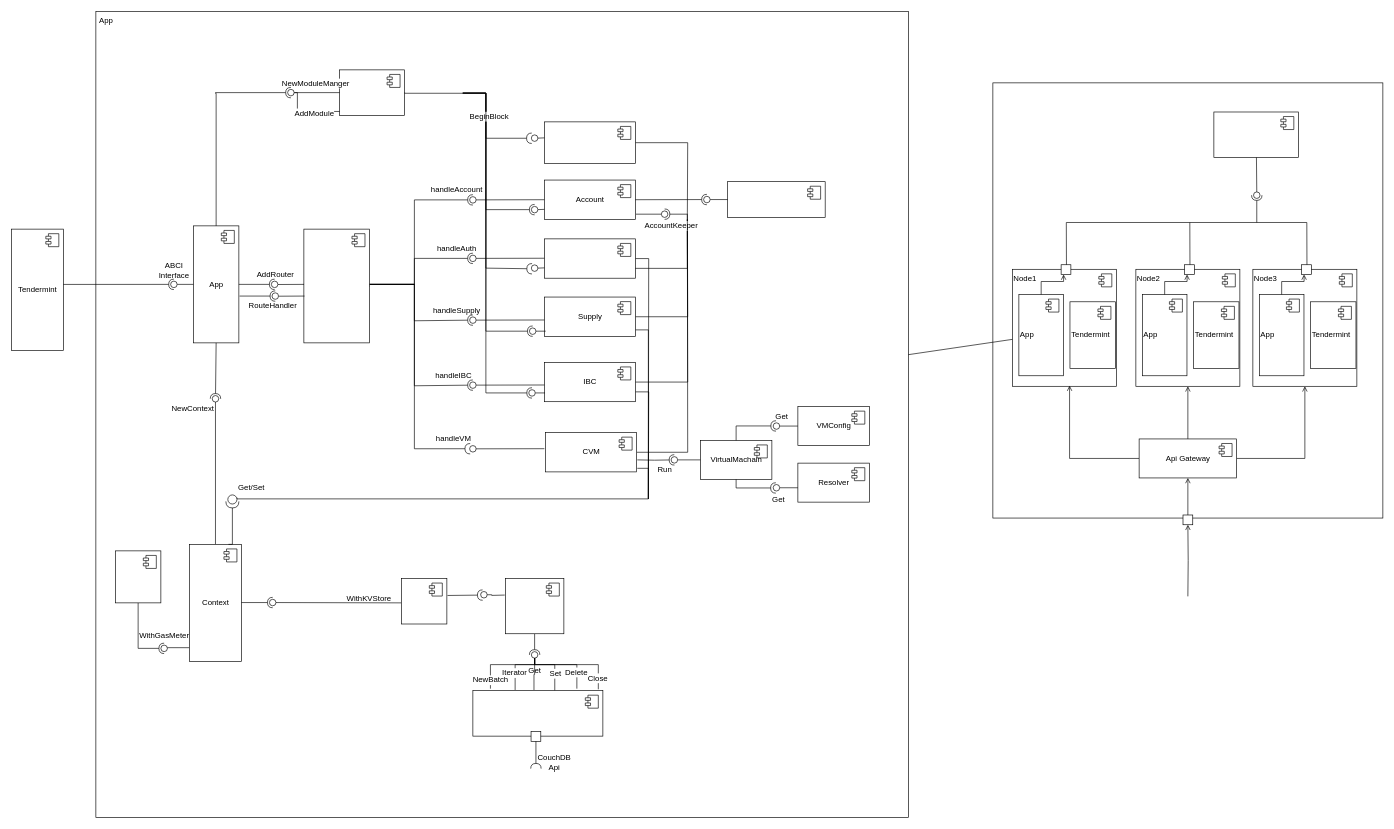
Image size: 1394x829. Some labels were removed from this diagram. The centre of each missing label's shape, as x and y in pixels:
"Account Model" belongs at point 776,199.
"Auth" belongs at point 589,258.
"couchDB" belongs at point 1255,134.
"CouchDB Client" belongs at point 537,713.
"GasMeter" belongs at point 138,576.
"Gover" belongs at point 589,142.
"ivalTree" belongs at point 534,606.
"KVStore" belongs at point 424,601.
"ModuleManager" belongs at point 372,92.
"Router" belongs at point 336,285.
